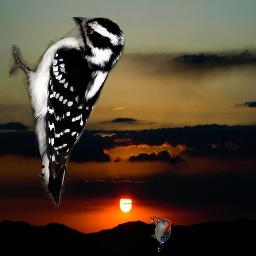Woodpecker: (9, 17, 125, 211), (150, 216, 171, 252)
